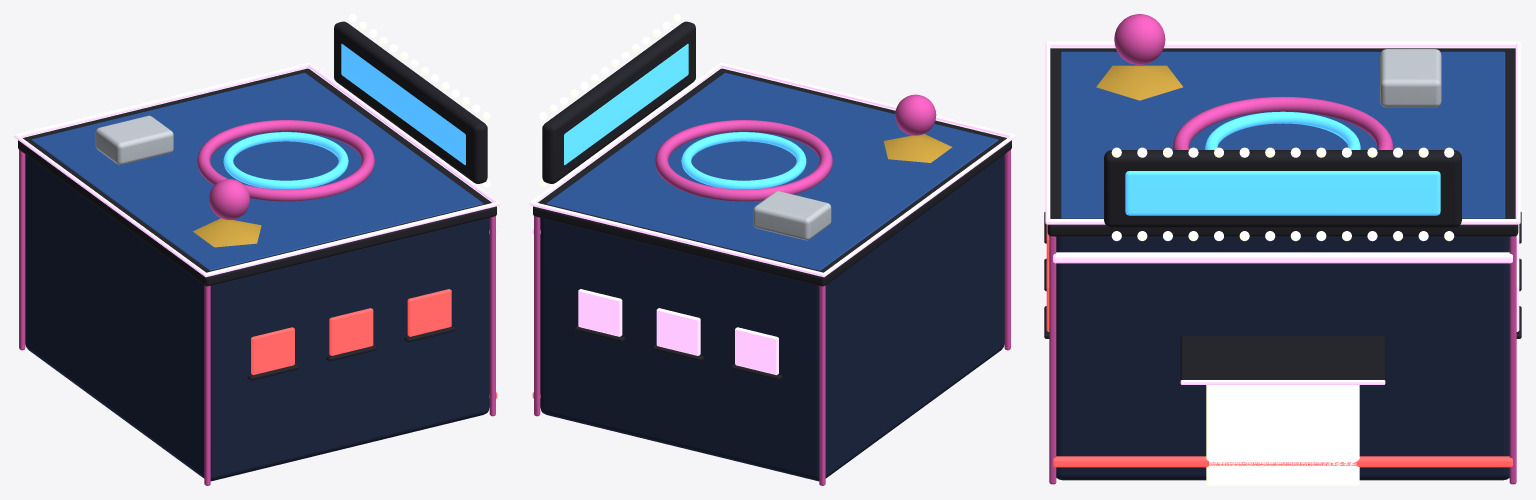
File: arcade.glb
The picture shows the model from 3 angles, left to right: view 1: azimuth 30°, elevation 25°; view 2: azimuth 150°, elevation 25°; view 3: azimuth 270°, elevation 25°; orthographic projection. The views are drawn at different scales.
Visible parts, largest first — view 1: arcade; view 2: arcade; view 3: arcade.
Part boxes in pixels (<box>): arcade: <box>14,14,500,485</box>; arcade: <box>529,14,1015,485</box>; arcade: <box>1044,14,1521,485</box>.
Size of the model in its own units: 9.57 by 7.5 by 9.34.
1 material, 1 textured.
